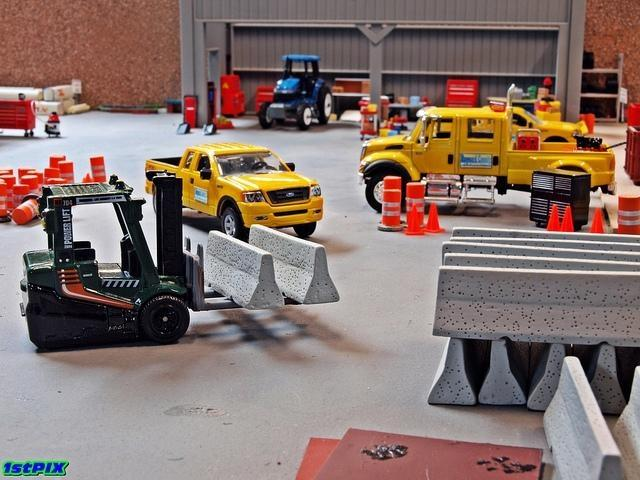truck: (358, 86, 614, 210), (18, 172, 190, 352), (145, 143, 323, 239), (258, 50, 369, 130)
